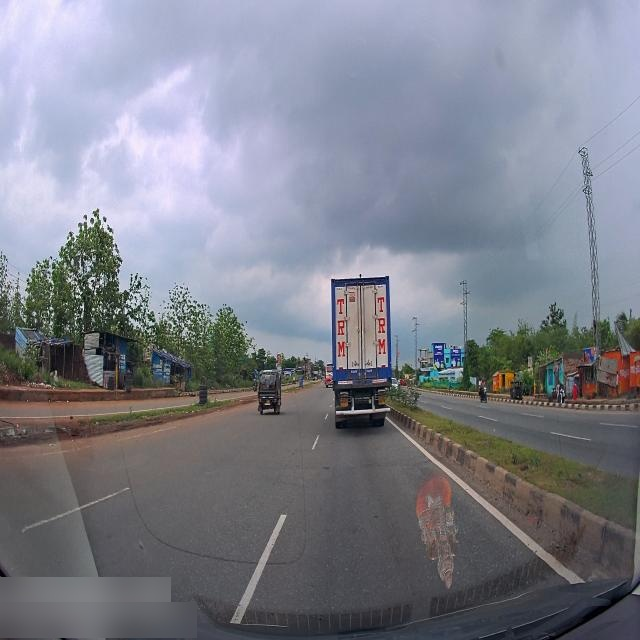pothole: (0, 419, 67, 442)
